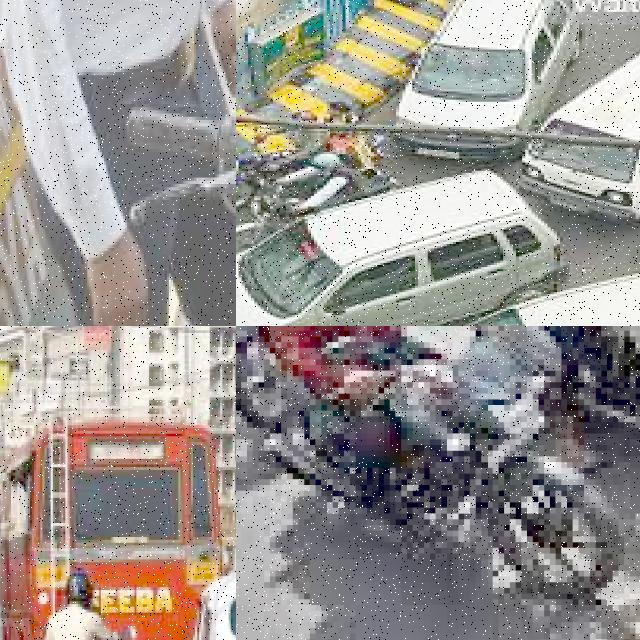bike: (247, 331, 630, 605), (123, 101, 236, 326), (469, 326, 640, 456), (236, 143, 380, 177)
